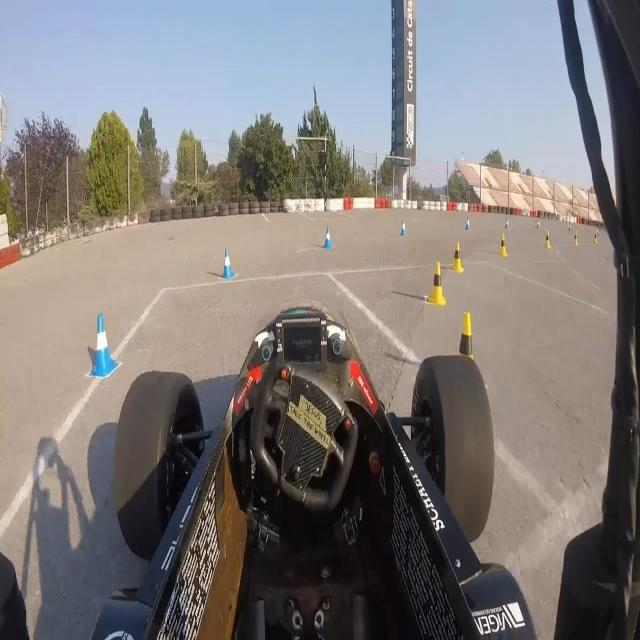blue_cone: (91, 311, 119, 380), (219, 248, 234, 281), (323, 226, 332, 249), (399, 218, 406, 238), (465, 216, 471, 232), (504, 216, 509, 229), (536, 219, 540, 229)
yellow_cone: (448, 309, 488, 415), (428, 262, 447, 305), (453, 241, 464, 274), (500, 233, 509, 259), (545, 230, 551, 250), (573, 231, 579, 246), (594, 233, 598, 244)
